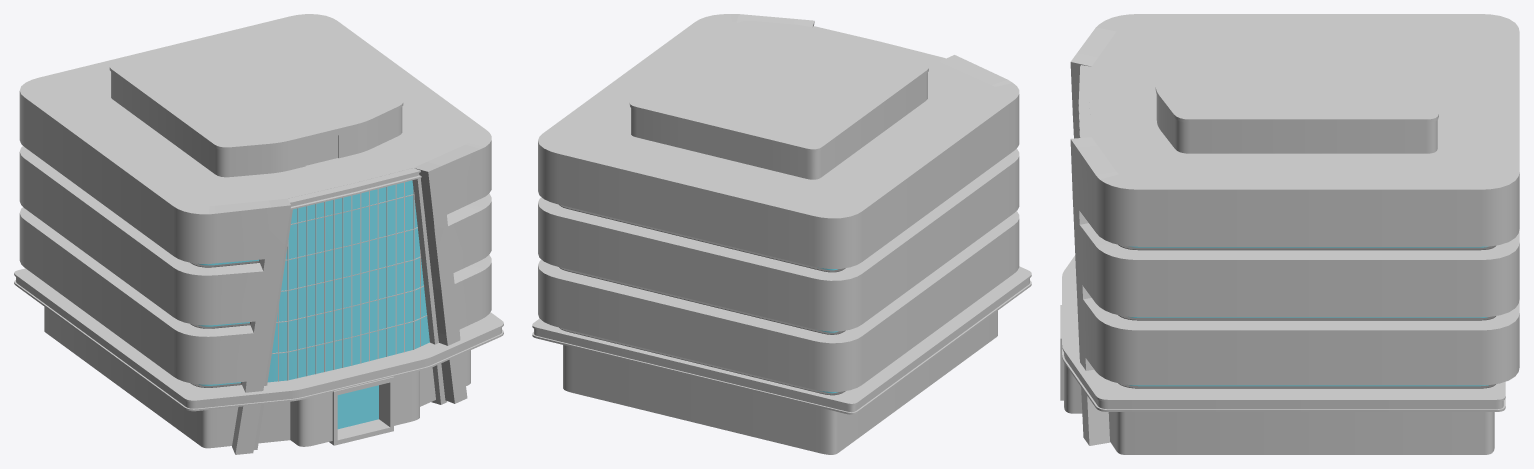
File: SEMINA.fbx
3 views of the same model, side by side, from view 1: azimuth 30°, elevation 25°; view 2: azimuth 150°, elevation 25°; view 3: azimuth 270°, elevation 25° (orthographic). The views are drawn at different scales.
Visible parts, largest first — view 1: Box1051, SEMINA, Box1083, Box1063, Box1056, Box1059, Box1217; view 2: Box1051, SEMINA, Box1063, Box1056, Box1059; view 3: Box1051, SEMINA, Box1063, Box1056, Box1059.
Boxes of the visible parts, x1,y1,x2,y2 form: Box1051: [19, 14, 491, 454]; SEMINA: [14, 21, 503, 454]; Box1083: [267, 180, 429, 382]; Box1063: [111, 21, 401, 146]; Box1056: [44, 307, 470, 448]; Box1059: [14, 268, 503, 400]; Box1217: [254, 178, 447, 449]; Box1051: [538, 14, 1019, 391]; SEMINA: [532, 20, 1031, 414]; Box1063: [631, 21, 927, 148]; Box1056: [563, 311, 997, 454]; Box1059: [532, 266, 1031, 403]; Box1051: [1070, 14, 1519, 445]; SEMINA: [1060, 14, 1519, 445]; Box1063: [1156, 15, 1437, 118]; Box1056: [1064, 363, 1494, 454]; Box1059: [1062, 255, 1505, 399].
Bounding box in the file's own units: 66432 × 55268 × 72210.
